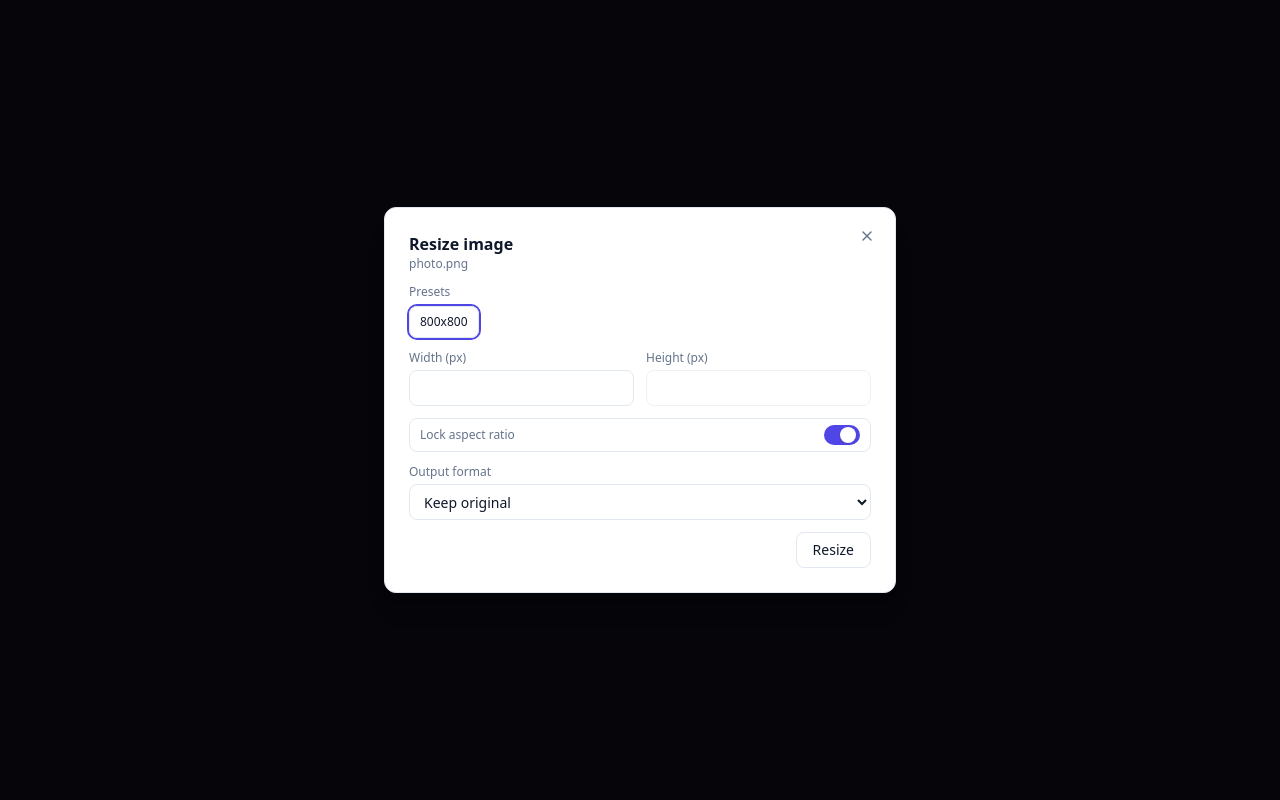
ResizeImageDialog › applying a preset fills both dimensions and unlocks the aspect ratio
Click the button "800x800".
click(444, 322)  # box [409, 306, 478, 338]
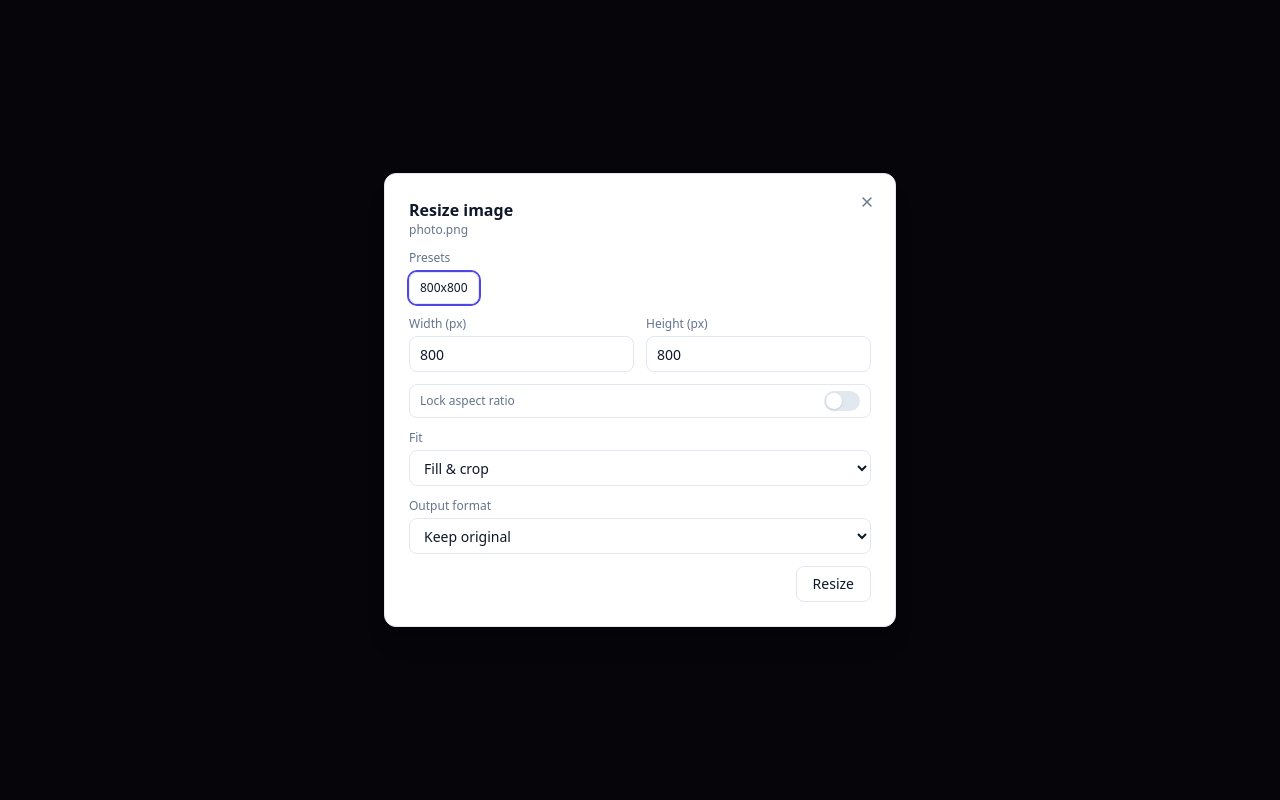
Check: the number field labelled "Width (px)" holds "800", box [409, 336, 634, 372]
Check: the number field labelled "Height (px)" holds "800", box [646, 336, 871, 372]
Check: the number field labelled "Height (px)" is enabled, box [646, 336, 871, 372]
